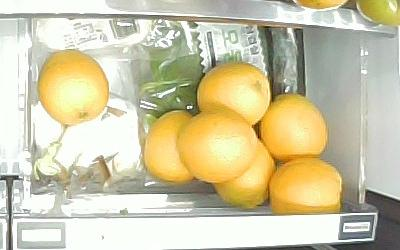orange: (37, 47, 110, 129), (179, 108, 257, 183), (196, 62, 271, 123), (213, 136, 274, 210), (261, 92, 327, 160), (270, 158, 345, 214), (145, 106, 197, 184)
